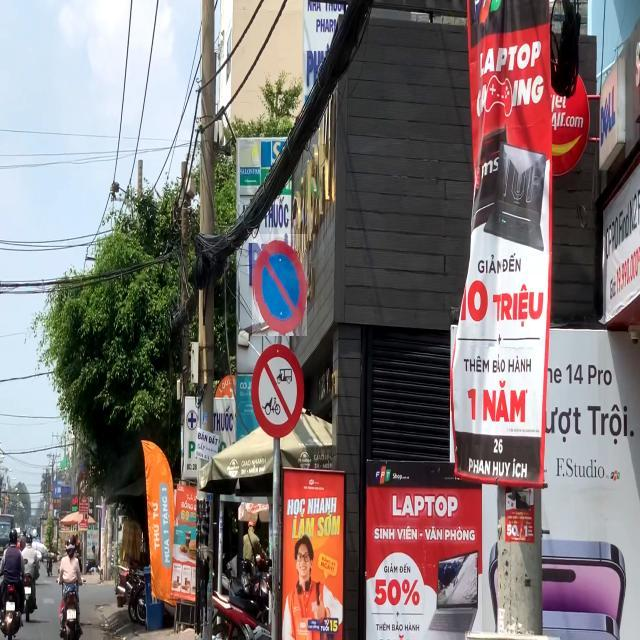P-131a: (252, 234, 307, 336)
